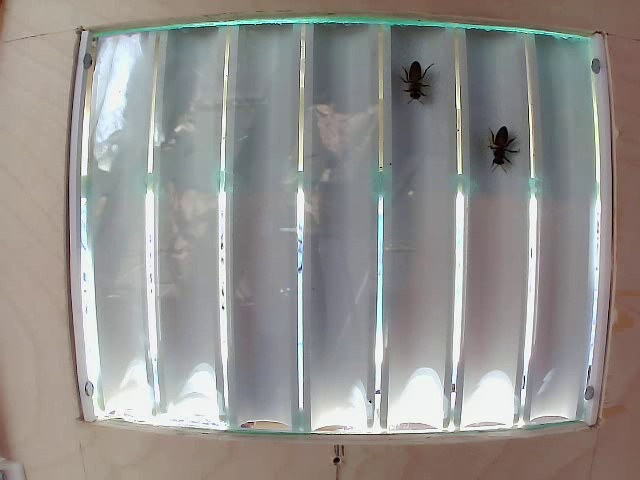bee: (402, 58, 435, 103), (483, 125, 511, 175)
